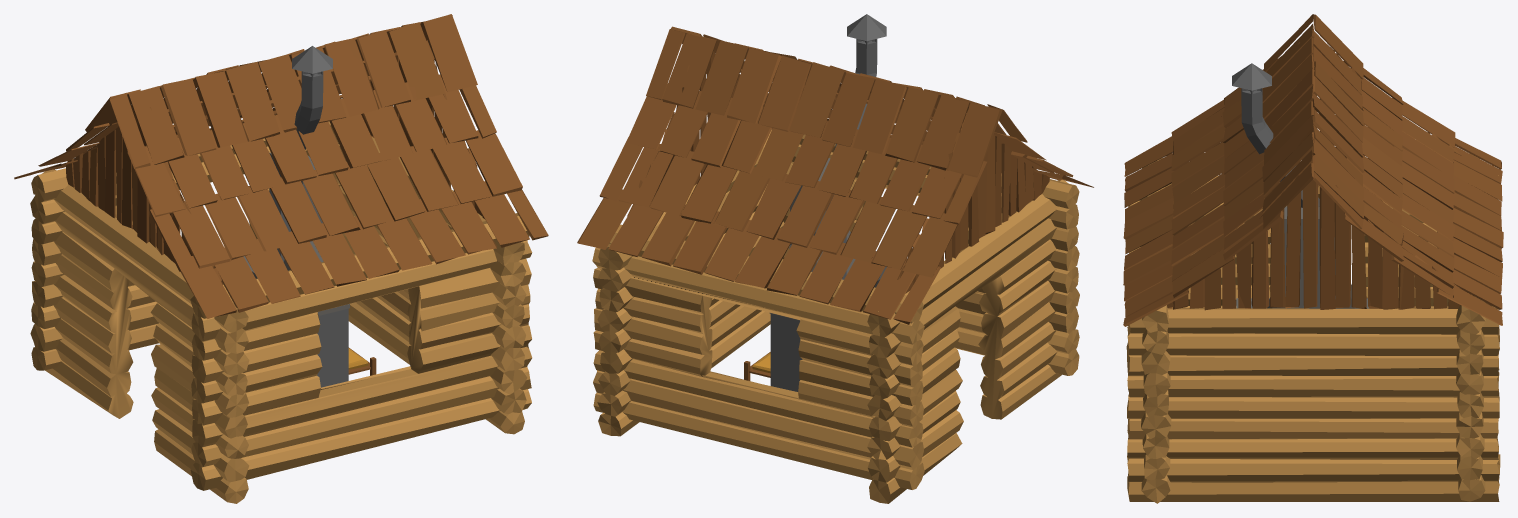
Rendered from Houses.fbx.
3 views of the same model, side by side, from view 1: azimuth 30°, elevation 25°; view 2: azimuth 150°, elevation 25°; view 3: azimuth 270°, elevation 25° (orthographic). The views are drawn at different scales.
Visible parts, largest first — view 1: House_01, Fireplace_02, Fireplace_01; view 2: House_01, Fireplace_02, Fireplace_01; view 3: House_01, Fireplace_01, Fireplace_02.
Part boxes in pixels (x1,y1,x2,y2): House_01: [14, 14, 548, 503]; Fireplace_02: [243, 152, 349, 387]; Fireplace_01: [270, 46, 332, 261]; House_01: [577, 26, 1093, 503]; Fireplace_02: [769, 158, 886, 391]; Fireplace_01: [826, 14, 886, 279]; House_01: [1123, 14, 1503, 503]; Fireplace_01: [1232, 63, 1319, 207]; Fireplace_02: [1236, 206, 1369, 308].
Bounding box in the file's own units: 424 × 443 × 412.
Materials: 3 (3 with a texture image).
